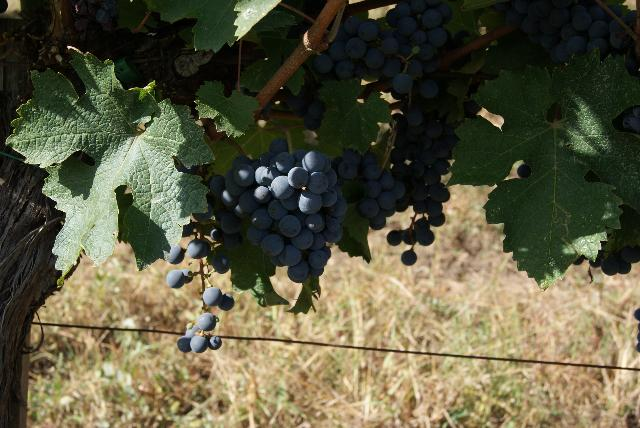grapes: (220, 139, 346, 284)
